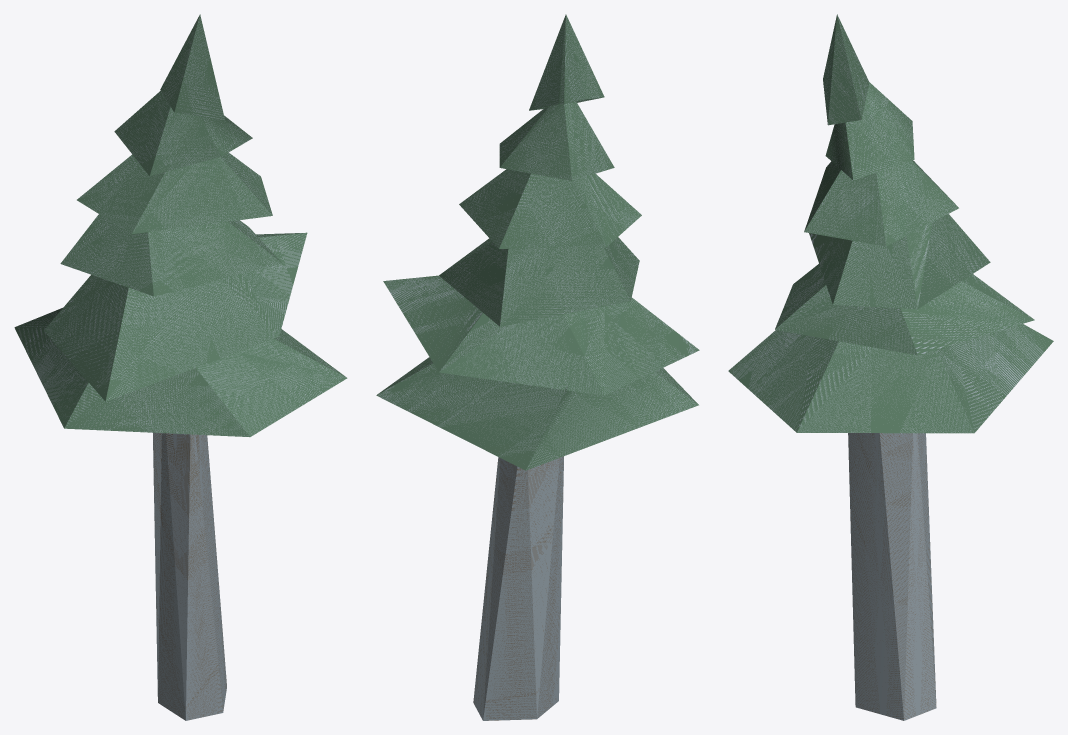
File: Tree_Pine_Tall_04.fbx
The picture shows the model from 3 angles, left to right: view 1: azimuth 30°, elevation 25°; view 2: azimuth 150°, elevation 25°; view 3: azimuth 270°, elevation 25°; orthographic projection. The views are drawn at different scales.
Visible parts, largest first — view 1: Model; view 2: Model; view 3: Model.
Part boxes in pixels (bbox=[...]): Model: bbox=[14, 14, 347, 720]; Model: bbox=[376, 14, 699, 720]; Model: bbox=[728, 14, 1053, 720].
Bounding box in the file's own units: 994 × 2355 × 1025.
